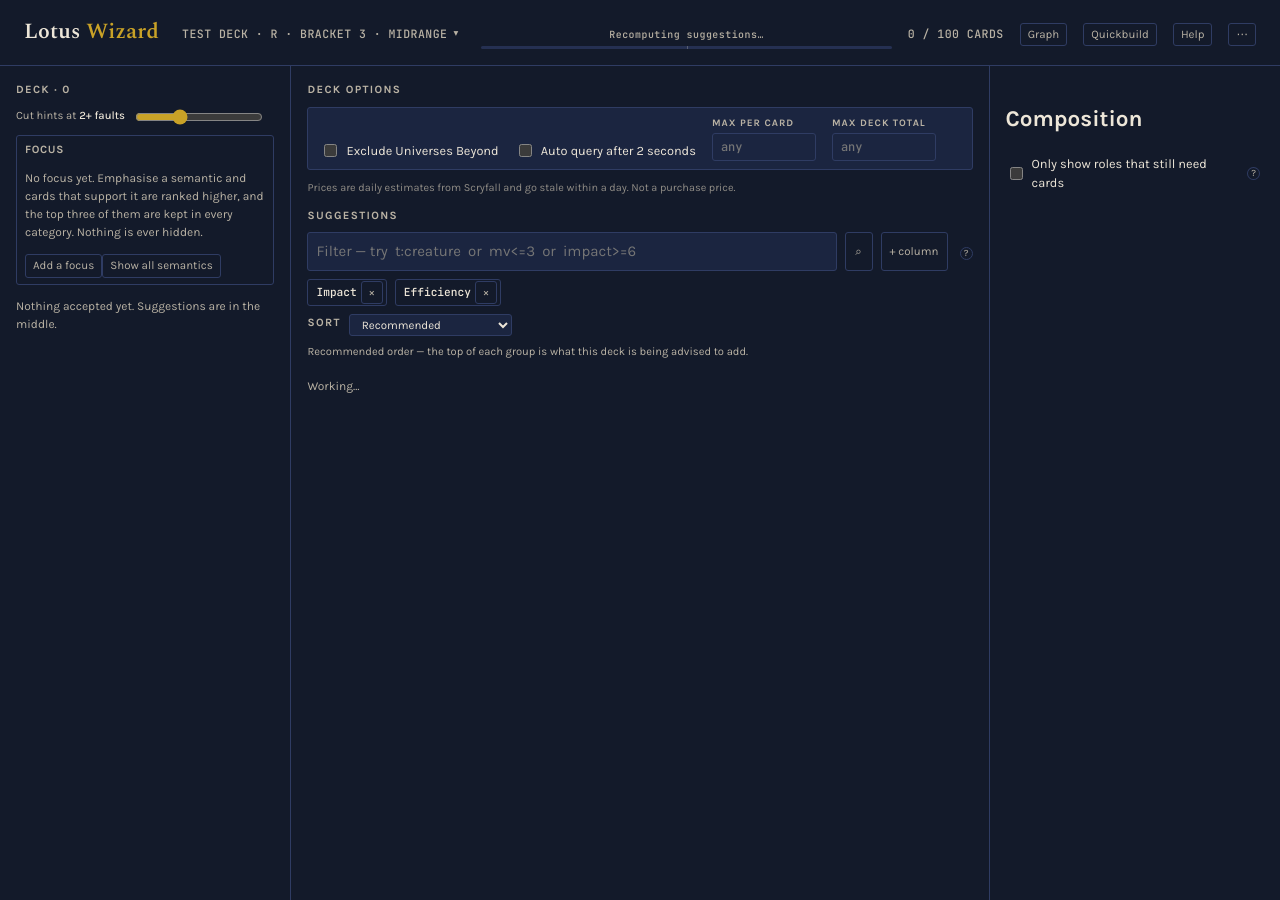
it: the Quickbuild button (§19.1) › sits in the masthead beside Graph and Help, with Import and Export behind ⋯
Check: the button "Quickbuild" is shown, box [1083,23,1157,46]
Check: the header named "Quickbuild" is shown, box [0,0,1279,66]
What coordinates should you click on to do the following:
click the button named "More tools"
I would click on:
 (1242, 35)
Its box is [1228,23,1256,46].
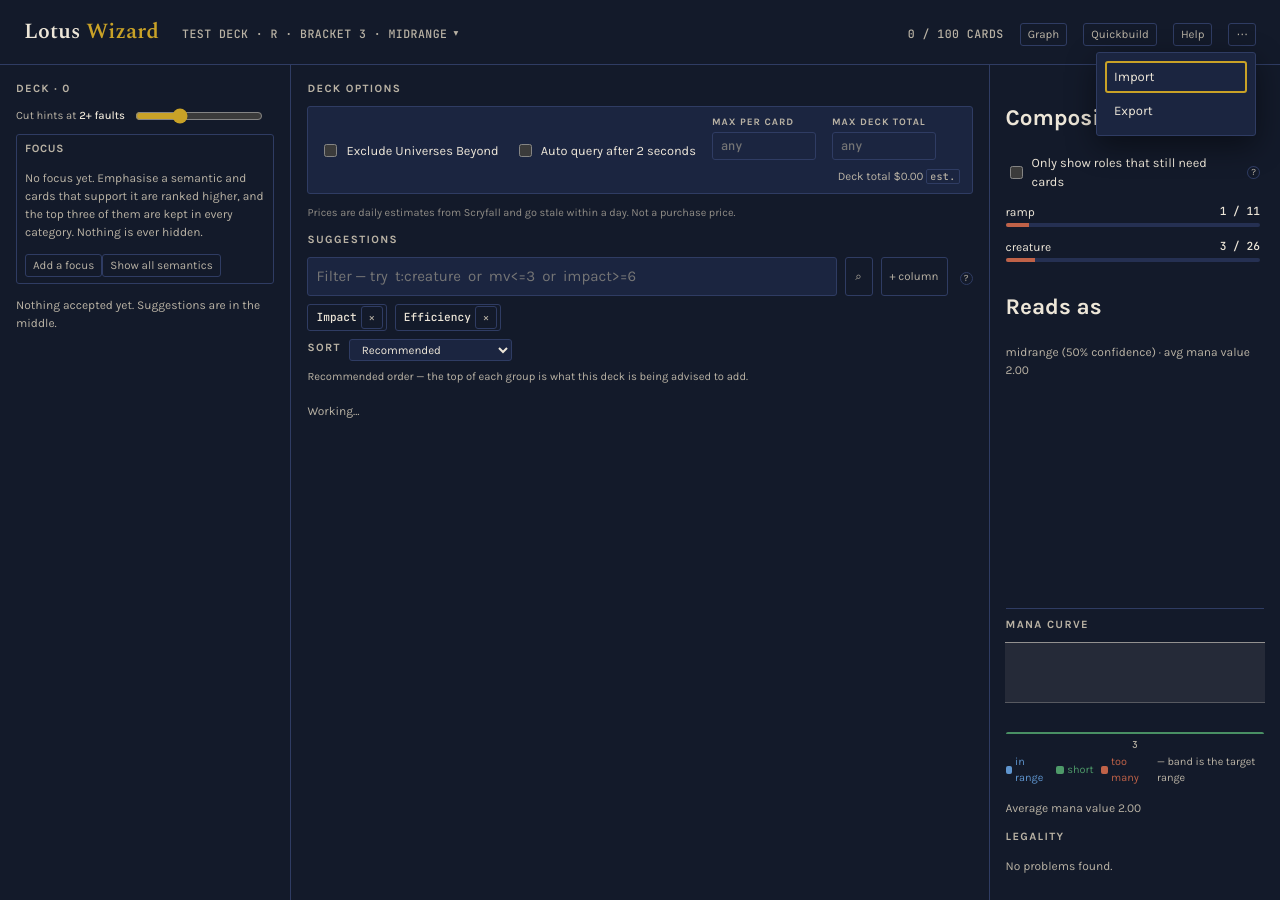
Check: the menu item "Import" is shown, box [1105,61,1247,93]
Check: the menu item "Export" is shown, box [1105,95,1247,127]
